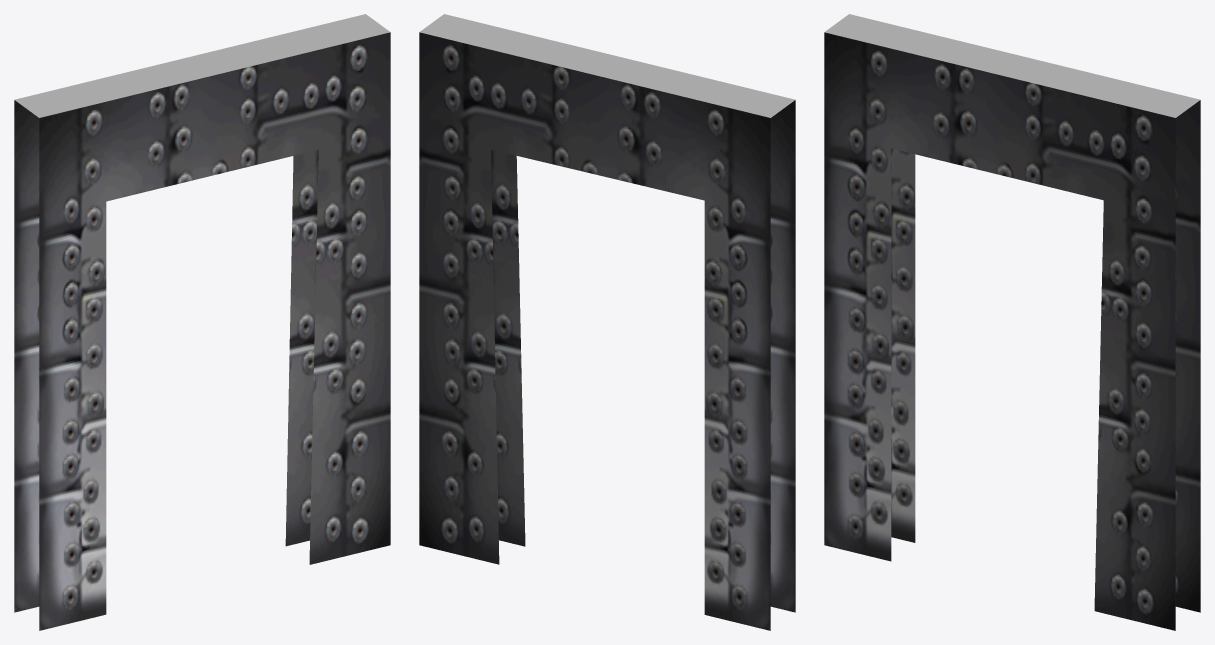
The model's file is W_I3_o [Gepanzert]_141.glb.
3 views of the same model, side by side, from view 1: azimuth 30°, elevation 25°; view 2: azimuth 150°, elevation 25°; view 3: azimuth 330°, elevation 25° (orthographic).
Parts seen in each view (by area): view 1: pPlaneShape2, pPlaneShape3, pPlaneShape1; view 2: pPlaneShape3, pPlaneShape2, pPlaneShape1; view 3: pPlaneShape2, pPlaneShape3, pPlaneShape1.
Part boxes in pixels (<box>): pPlaneShape2: <box>39,32,390,630</box>; pPlaneShape3: <box>14,100,318,612</box>; pPlaneShape1: <box>14,14,390,117</box>; pPlaneShape3: <box>419,32,770,630</box>; pPlaneShape2: <box>491,100,795,612</box>; pPlaneShape1: <box>419,14,795,117</box>; pPlaneShape2: <box>824,32,1175,630</box>; pPlaneShape3: <box>891,100,1200,612</box>; pPlaneShape1: <box>824,14,1200,117</box>.
Bounding box in the file's own units: 0.25 × 0.3486 × 0.0308.
Materials: 3 (2 with a texture image).
